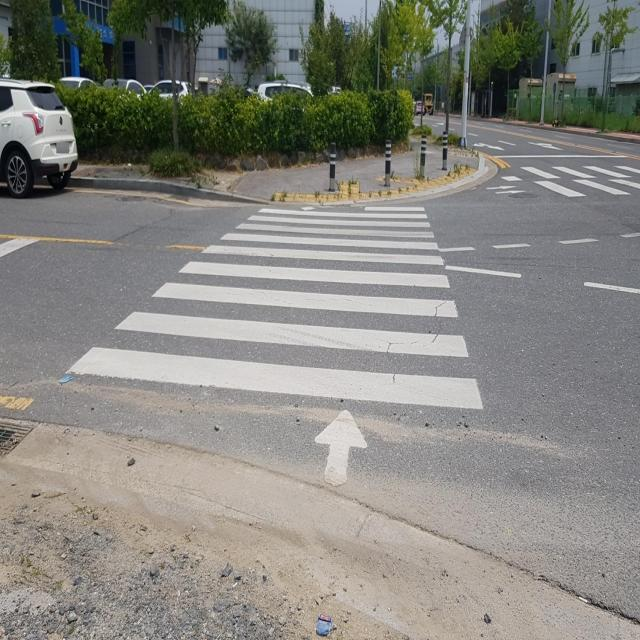횡단보도: (64, 203, 486, 492), (496, 159, 640, 196)
